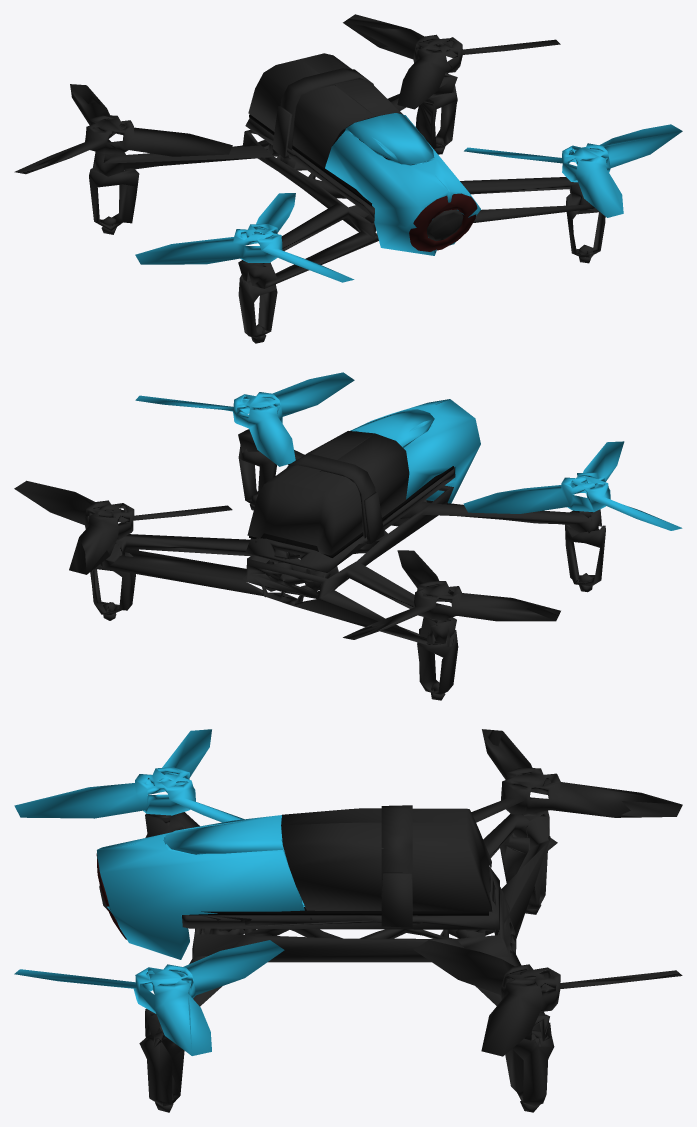
Rendered from BebopLowDef.fbx.
The picture shows the model from 3 angles, top to bottom: view 1: azimuth 30°, elevation 25°; view 2: azimuth 150°, elevation 25°; view 3: azimuth 270°, elevation 25°; orthographic projection. The views are drawn at different scales.
Parts seen in each view (by area): view 1: frame, nose, battery, propeller_rl, propeller_fr, propeller_fl, propeller_rr, top, strap, lens_ring, pad_rr, pad_rl (+5 smaller); view 2: frame, battery, propeller_rr, propeller_fr, propeller_rl, propeller_fl, nose, frame_inside, strap, pad_rr, top, pad_fr (+3 smaller); view 3: battery, nose, frame, propeller_fl, propeller_rl, propeller_fr, propeller_rr, frame_inside, strap, top, pad_rl, pad_fl (+2 smaller).
Boxes of the visible parts, x1,y1,x2,y2 form: frame: [92, 73, 594, 288]; nose: [325, 115, 481, 255]; battery: [248, 53, 403, 167]; propeller_rl: [343, 14, 560, 109]; propeller_fr: [135, 193, 354, 282]; propeller_fl: [464, 124, 682, 217]; propeller_rr: [14, 84, 232, 174]; top: [339, 113, 434, 164]; strap: [272, 68, 373, 158]; lens_ring: [409, 193, 477, 251]; pad_rr: [89, 168, 139, 234]; pad_rl: [415, 85, 457, 154]; frame: [100, 429, 601, 645]; battery: [247, 431, 409, 555]; propeller_rr: [343, 550, 560, 639]; propeller_fr: [463, 441, 682, 530]; propeller_rl: [14, 480, 232, 574]; propeller_fl: [135, 372, 354, 466]; nose: [403, 399, 480, 503]; frame_inside: [245, 467, 455, 572]; strap: [287, 453, 384, 543]; pad_rr: [417, 628, 458, 700]; top: [350, 409, 434, 447]; pad_fr: [565, 524, 605, 592]; battery: [281, 808, 492, 911]; nose: [97, 832, 304, 959]; frame: [145, 810, 551, 1041]; propeller_fl: [14, 940, 284, 1055]; propeller_rl: [413, 940, 682, 1056]; propeller_fr: [14, 729, 244, 822]; propeller_rr: [471, 729, 682, 822]; frame_inside: [182, 866, 499, 931]; strap: [381, 805, 412, 927]; top: [165, 815, 302, 902]; pad_rl: [505, 1030, 554, 1112]; pad_fl: [139, 1031, 184, 1112].
Bounding box in the file's own units: 323 × 88.06 × 280.
